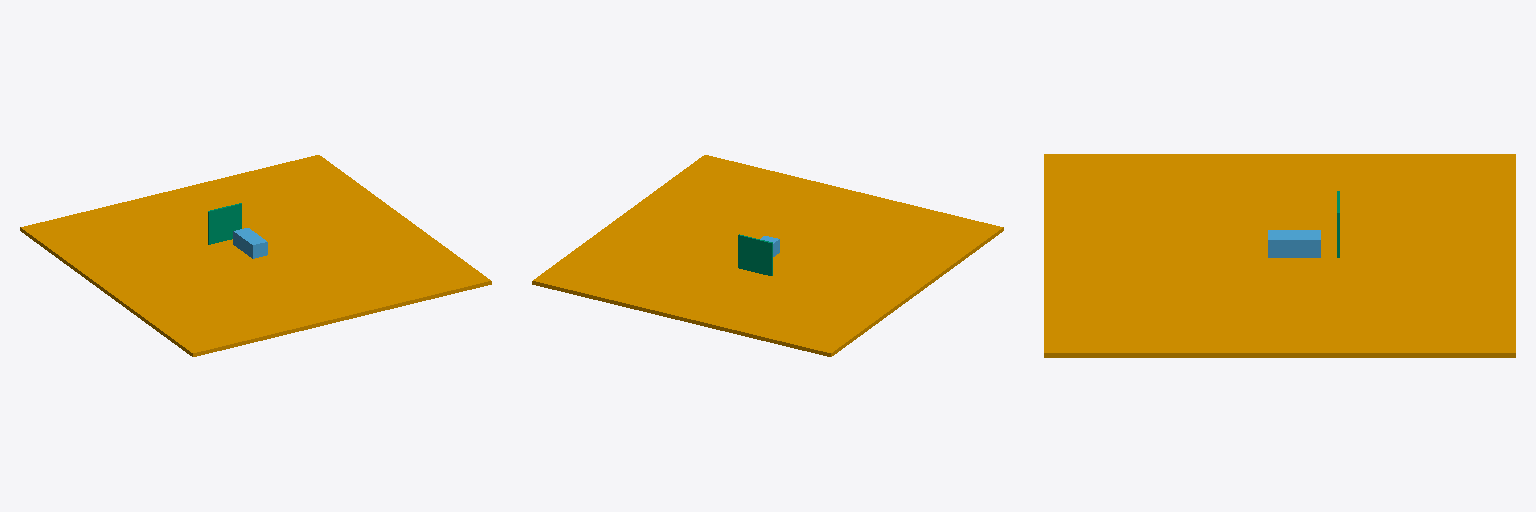
robot.urdf — gridworld:
<?xml version="1.0"?>
<!-- created with Phobos 1.0.1 "Capricious Choutengan" -->
  <robot name="gridworld">

    <link name="base_link">
      <inertial>
        <origin xyz="0 0 0" rpy="0 0 0"/>
        <mass value="0.001"/>
        <inertia ixx="0.001" ixy="0" ixz="0" iyy="0.001" iyz="0" izz="0.001"/>
      </inertial>
      <visual name="visual_cube_base">
        <origin xyz="0 0 0" rpy="0 0 0"/>
        <geometry>
          <box size="16.0 16.0 0.2"/>
        </geometry>
      </visual>
      <collision name="collision_cube_base">
        <origin xyz="0 0 0" rpy="0 0 0"/>
        <geometry>
          <box size="16.0 16.0 0.2"/>
        </geometry>
      </collision>
    </link>

    <link name="link0">
      <inertial>
        <origin xyz="0 0 0" rpy="0 0 0"/>
        <mass value="0.001"/>
        <inertia ixx="0.001" ixy="0" ixz="0" iyy="0.001" iyz="0" izz="0.001"/>
      </inertial>
      <visual name="visual_cube0">
        <origin xyz="0 0 0" rpy="0 0 0"/>
        <geometry>
          <box size="0.8 0.8 1.8"/>
        </geometry>
      </visual>
      <collision name="collision_cube0">
        <origin xyz="0 0 0" rpy="0 0 0"/>
        <geometry>
          <box size="0.8 0.8 1.8"/>
        </geometry>
      </collision>
    </link>

    <link name="link1">
      <inertial>
        <origin xyz="0 0 0" rpy="0 0 0"/>
        <mass value="0.001"/>
        <inertia ixx="0.001" ixy="0" ixz="0" iyy="0.001" iyz="0" izz="0.001"/>
      </inertial>
      <visual name="visual_cube1">
        <origin xyz="0 0 0" rpy="0 0 0"/>
        <geometry>
          <box size="1.8 0.1 1.8"/>
        </geometry>
      </visual>
      <collision name="collision_cube1">
        <origin xyz="0 0 0" rpy="0 0 0"/>
        <geometry>
          <box size="1.8 0.1 1.8"/>
        </geometry>
      </collision>
    </link>

    <joint name="link0" type="prismatic">
      <origin xyz="0 0.5 0.4" rpy="-1.5708 0 0"/>
      <parent link="base_link"/>
      <child link="link0"/>
      <axis xyz="0 0 1.0"/>
      <limit lower="0" upper="1.0" effort="0" velocity="0"/>
    </joint>

    <joint name="link1" type="revolute">
      <origin xyz="-0.5 2.0 0.9" rpy="0 0 0"/>
      <parent link="base_link"/>
      <child link="link1"/>
      <axis xyz="0 0 1.0"/>
      <limit lower="0" upper="1.5708" effort="0" velocity="0"/>
    </joint>

  </robot>

--- What the picture shows (computed from the rendered views, not written in the file) ---
Views: 3 orthographic renders of the robot side by side, from view 1: azimuth 30°, elevation 25°; view 2: azimuth 150°, elevation 25°; view 3: azimuth 270°, elevation 25°.
Model gridworld with 3 links and 2 joints (1 revolute, 1 prismatic), rooted at base_link, posed all joints at 0.
Links seen in each view (by area): view 1: base_link, link1, link0; view 2: base_link, link1; view 3: base_link, link0.
Link boxes in pixels (bbox=[...]): base_link: bbox=[20, 155, 491, 356]; link1: bbox=[208, 203, 241, 244]; link0: bbox=[233, 228, 267, 258]; base_link: bbox=[532, 155, 1003, 356]; link1: bbox=[738, 234, 772, 275]; base_link: bbox=[1044, 154, 1515, 357]; link0: bbox=[1268, 230, 1320, 257].
Size in the robot's own frame: 16 by 16 by 1.9 metres.
Geometry: primitives only (box / cylinder / sphere), no mesh files.